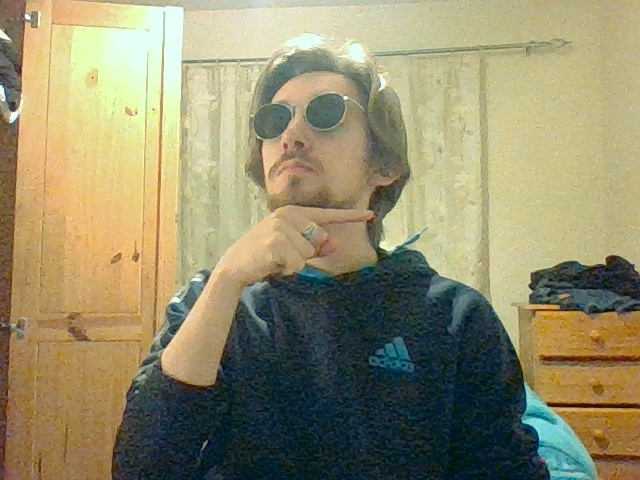son: (260, 206, 374, 273)
